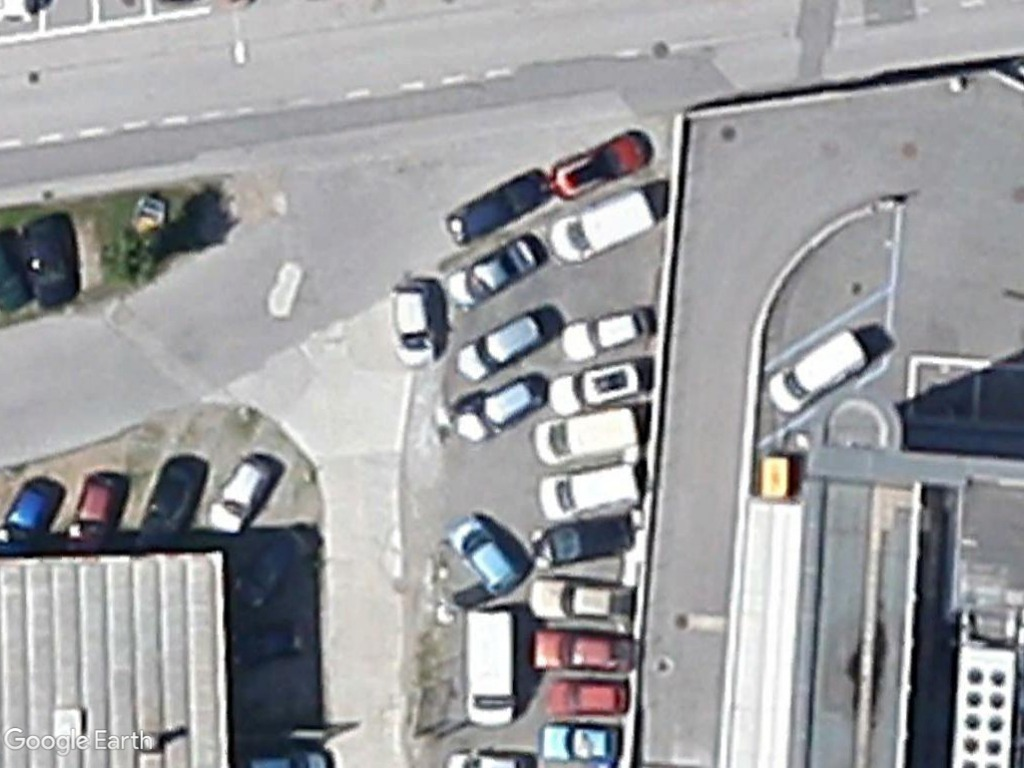car: (449, 371, 545, 448), (205, 448, 279, 540), (559, 303, 660, 365), (459, 310, 550, 377), (449, 514, 524, 594), (525, 569, 633, 623), (547, 363, 658, 415), (387, 278, 444, 372), (527, 627, 636, 675), (532, 720, 625, 768), (541, 677, 632, 718)
van: (758, 322, 877, 417), (548, 186, 664, 267), (456, 602, 521, 730), (536, 462, 647, 522), (533, 408, 643, 465)
